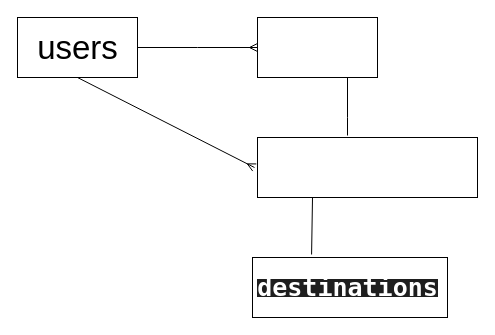
The diagram is 495 pixels wide and 335 high, and some of its shapes have lost their labels. Here are the shapes that lost their labels. From the top down, the centre of each, then its label:
At (x=317, y=47): "items".
At (x=367, y=167): "purchase_ records".
